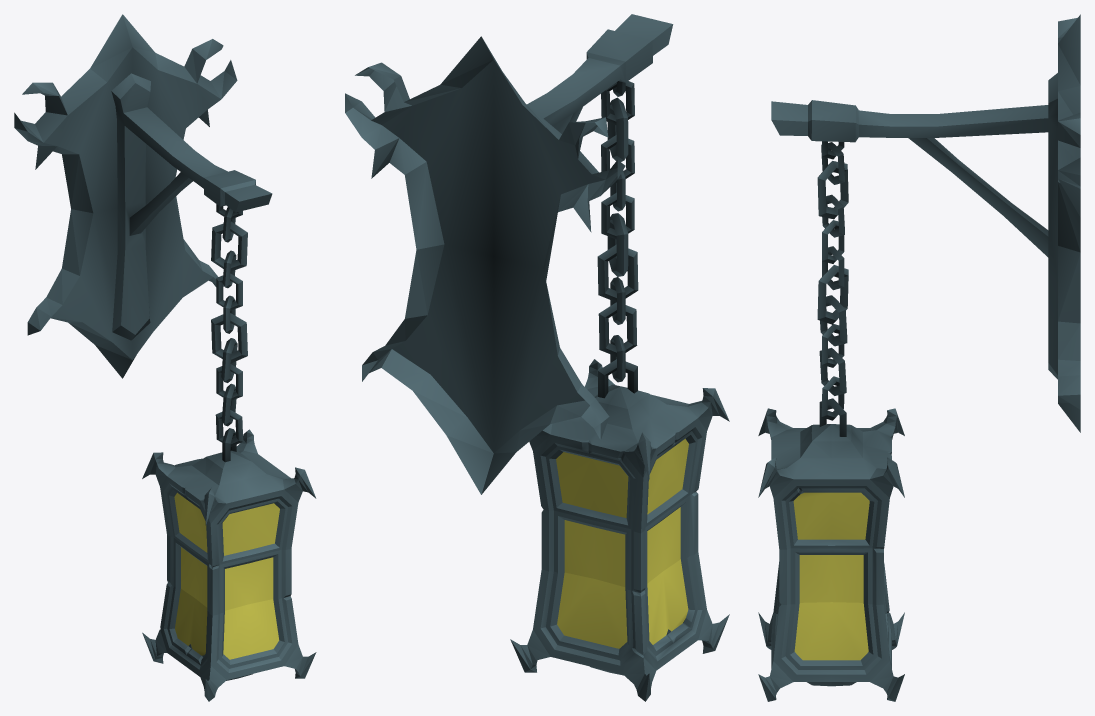
The model's file is obj_lamp.FBX.
3 renders of one model, left to right at view 1: azimuth 30°, elevation 25°; view 2: azimuth 150°, elevation 25°; view 3: azimuth 270°, elevation 25°, orthographic. The views are drawn at different scales.
Visible parts, largest first — view 1: obj_lamp; view 2: obj_lamp; view 3: obj_lamp.
Boxes of the visible parts, x1,y1,x2,y2 form: obj_lamp: [14, 14, 316, 701]; obj_lamp: [345, 14, 729, 701]; obj_lamp: [758, 14, 1080, 701].
Size of the model in its own units: 1.22 by 3.15 by 1.37.
